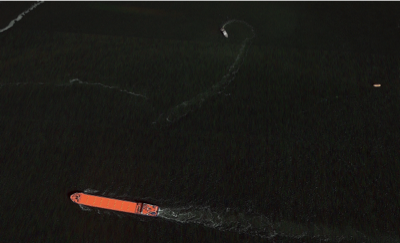boat: (69, 191, 160, 218), (220, 27, 229, 38), (373, 83, 381, 87)
